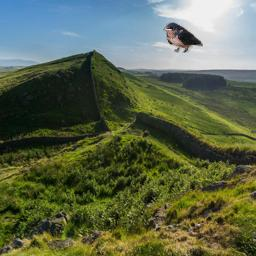Swallow: (163, 22, 203, 53)
